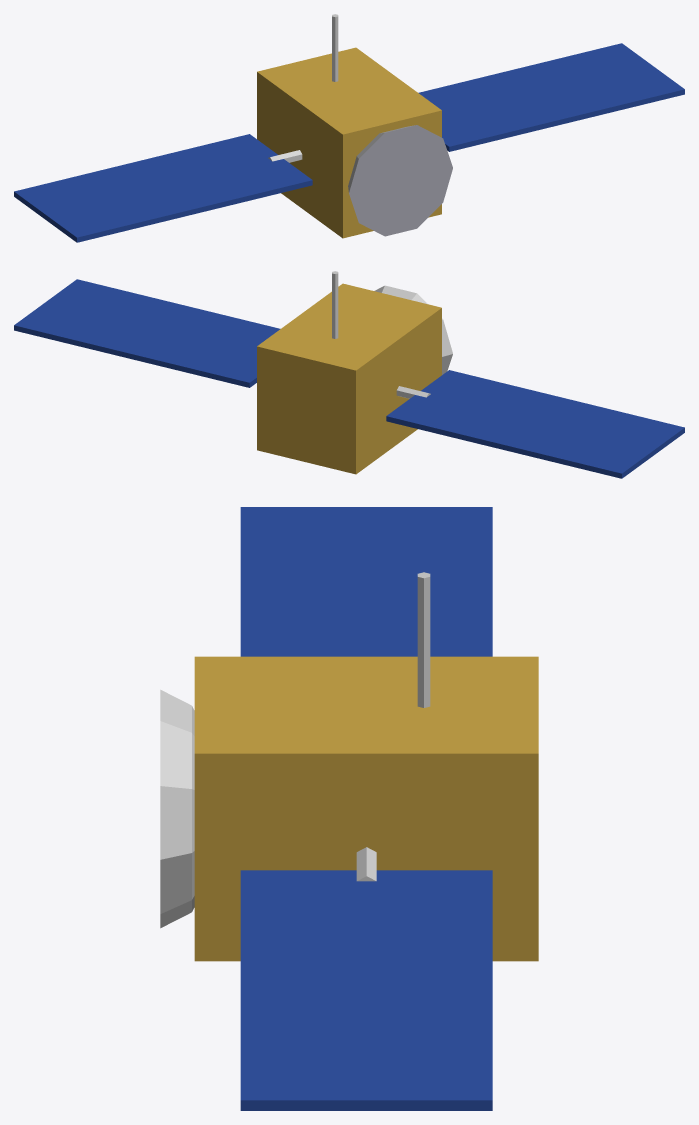
Rendered from satellite.glb.
3 views of the same model, one above another, from view 1: azimuth 30°, elevation 25°; view 2: azimuth 150°, elevation 25°; view 3: azimuth 270°, elevation 25° (orthographic). The views are drawn at different scales.
Parts seen in each view (by area): view 1: satellite; view 2: satellite; view 3: satellite.
Part boxes in pixels (box(x1,y1,x2,y2)): satellite: box(14, 14, 684, 242); satellite: box(14, 271, 684, 478); satellite: box(160, 507, 538, 1110).
Size of the model in its own units: 2.45 by 0.65 by 0.66.
